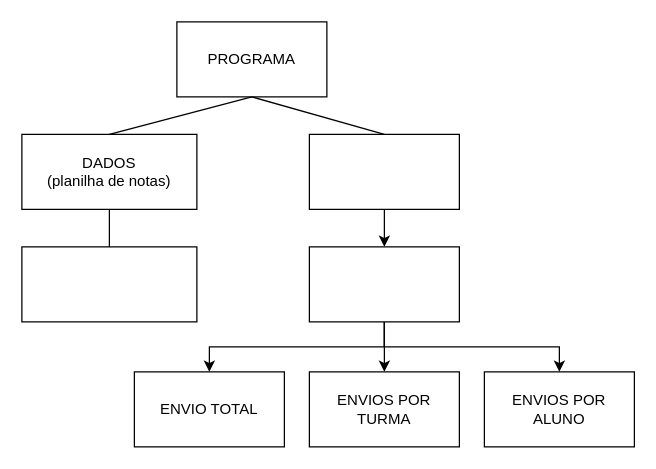
The diagram is 656 pixels wide and 469 high, and some of its shapes have lost their labels. The shapes that lost their labels are listed below. From the top down, each one's centre as x and y in pixels, then its label:
At point (383, 171): "INTERFACE (opcional)".
At point (109, 284): "DADOS AUXILIARES (planilha de contatos)".
At point (383, 284): "OUTLOOK (envio de e-mail)".
